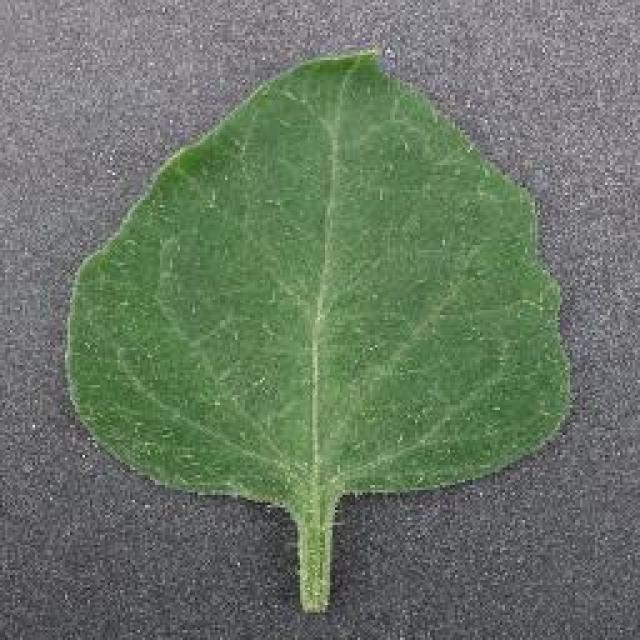Tomato_Healthy: (37, 43, 604, 531)
